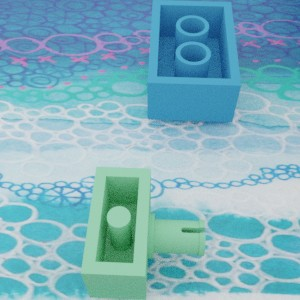lego: (80, 166, 205, 299), (147, 0, 241, 122)
